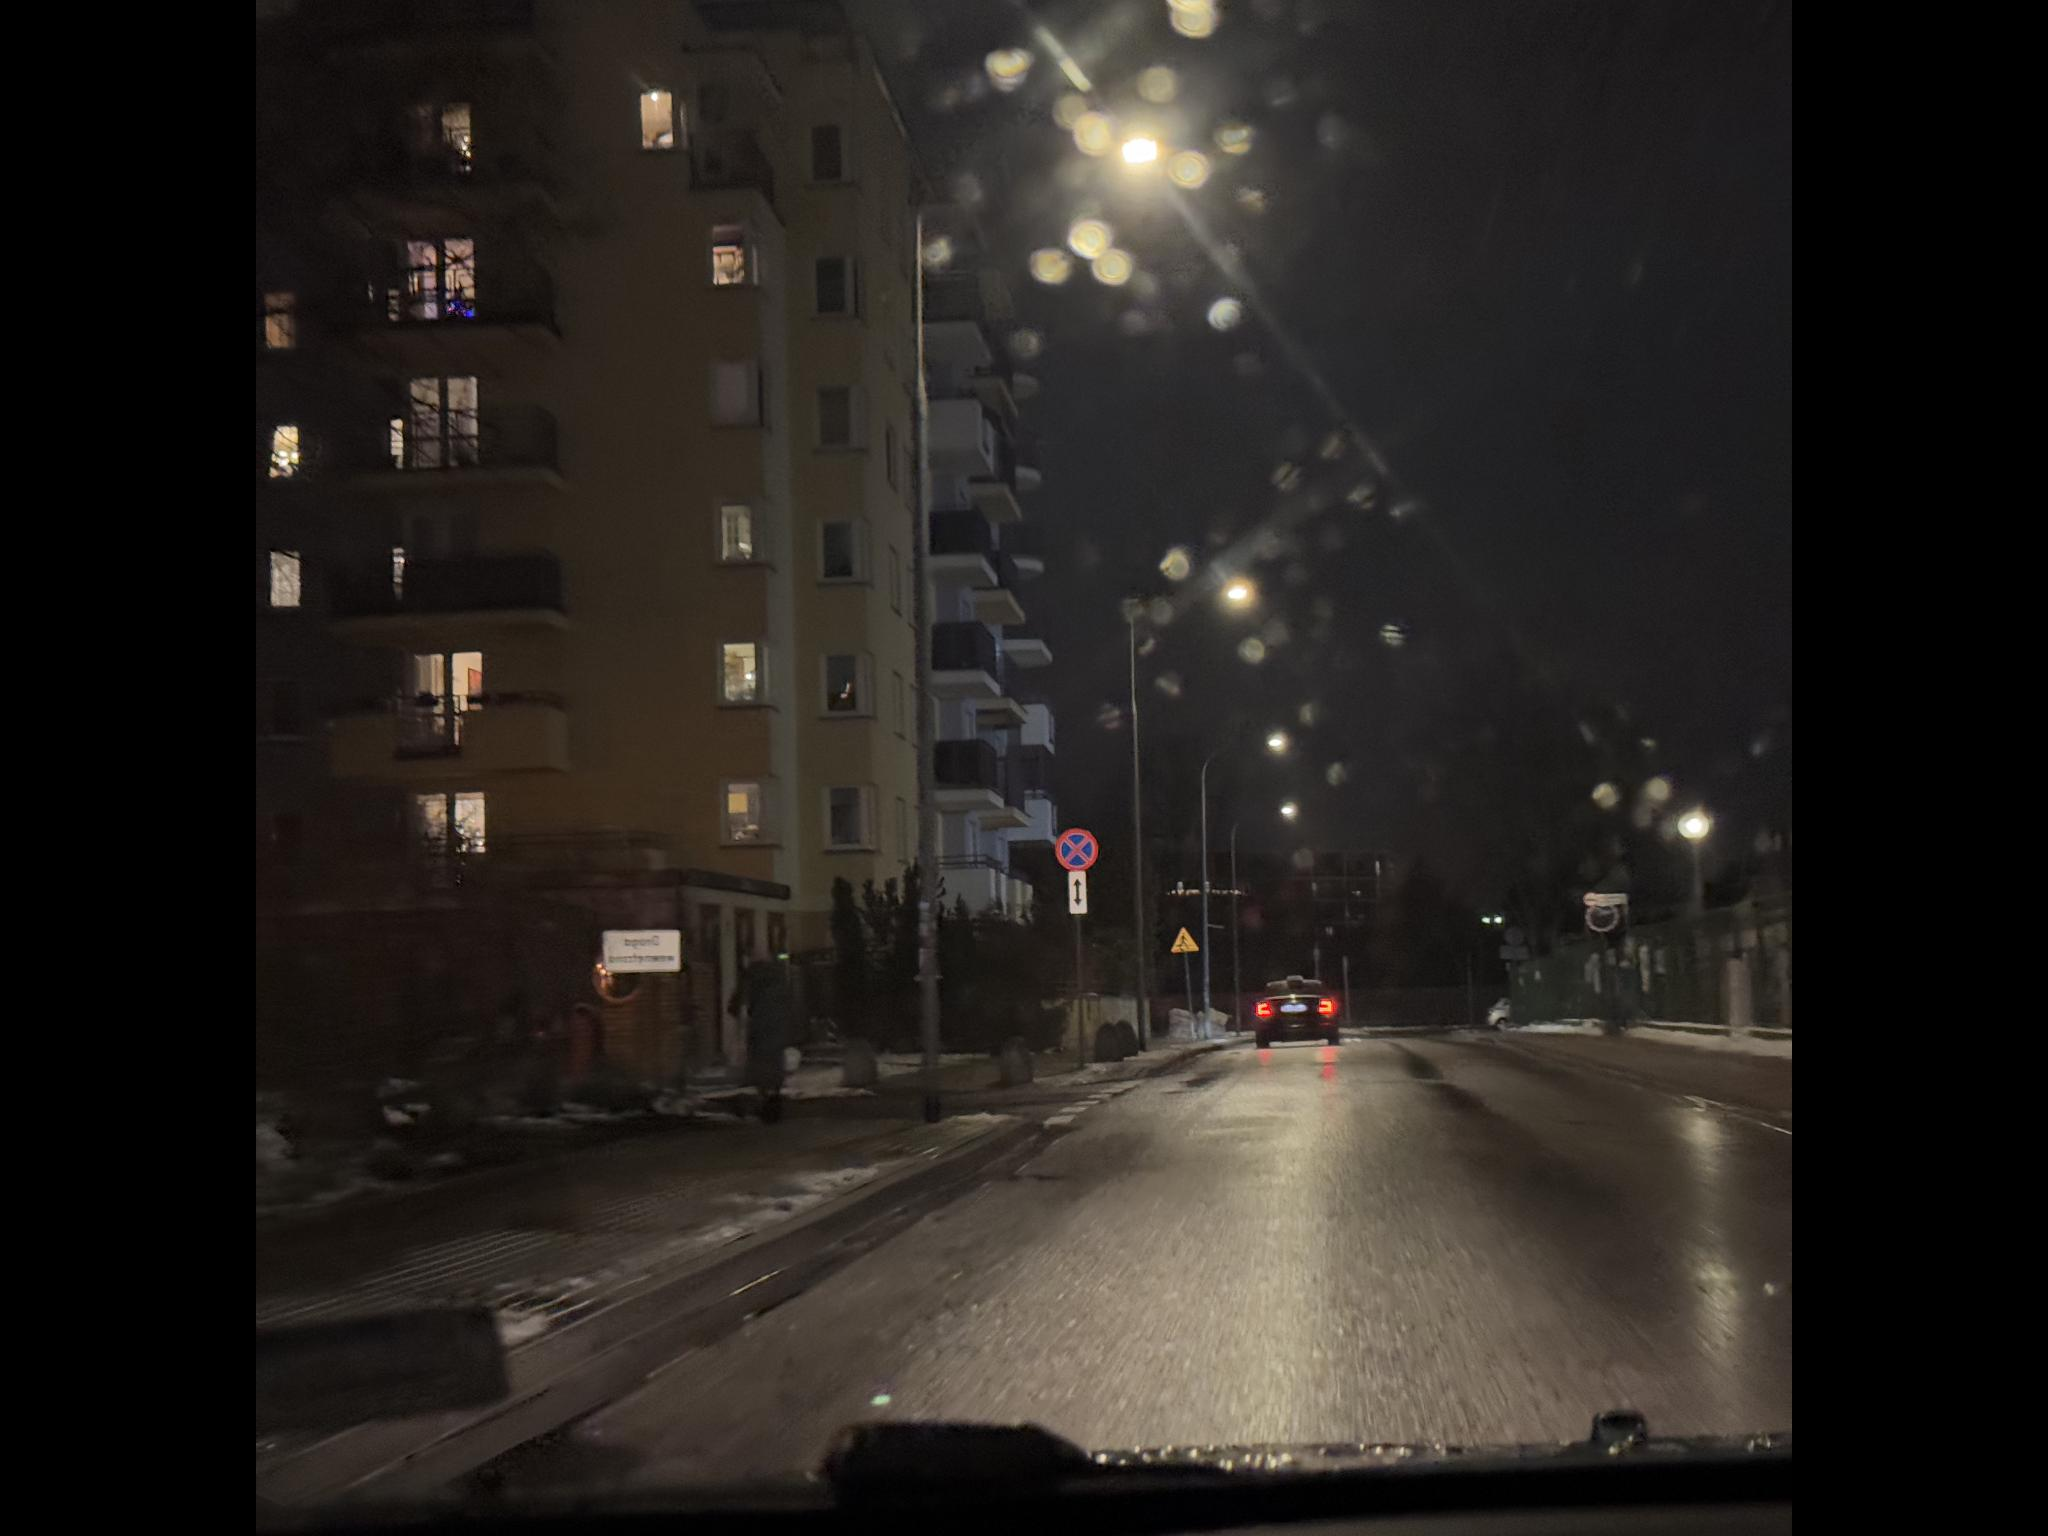information: (1440, 854, 1484, 934)
other: (1382, 450, 1426, 468)
prohibitory: (1338, 437, 1382, 481)
warning: (1437, 337, 1464, 365)
